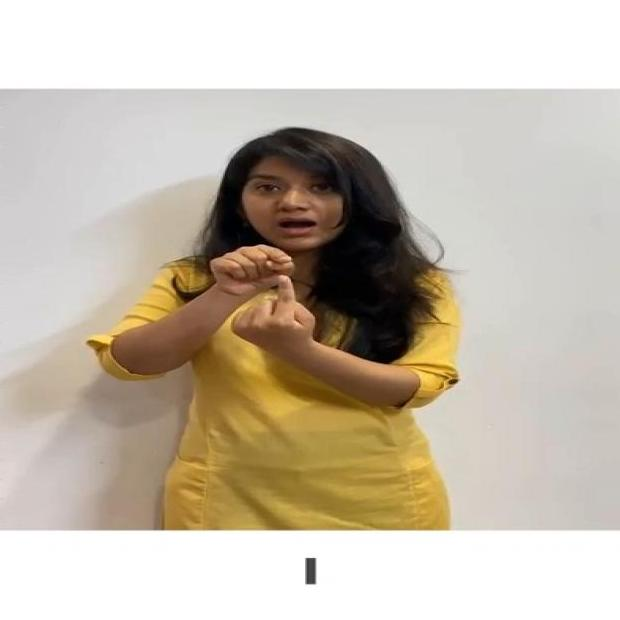H: (191, 238, 342, 368)
